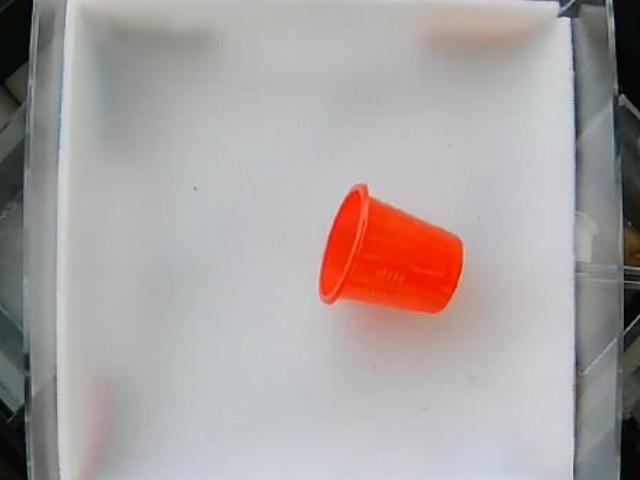Cup: (317, 184, 467, 319)
